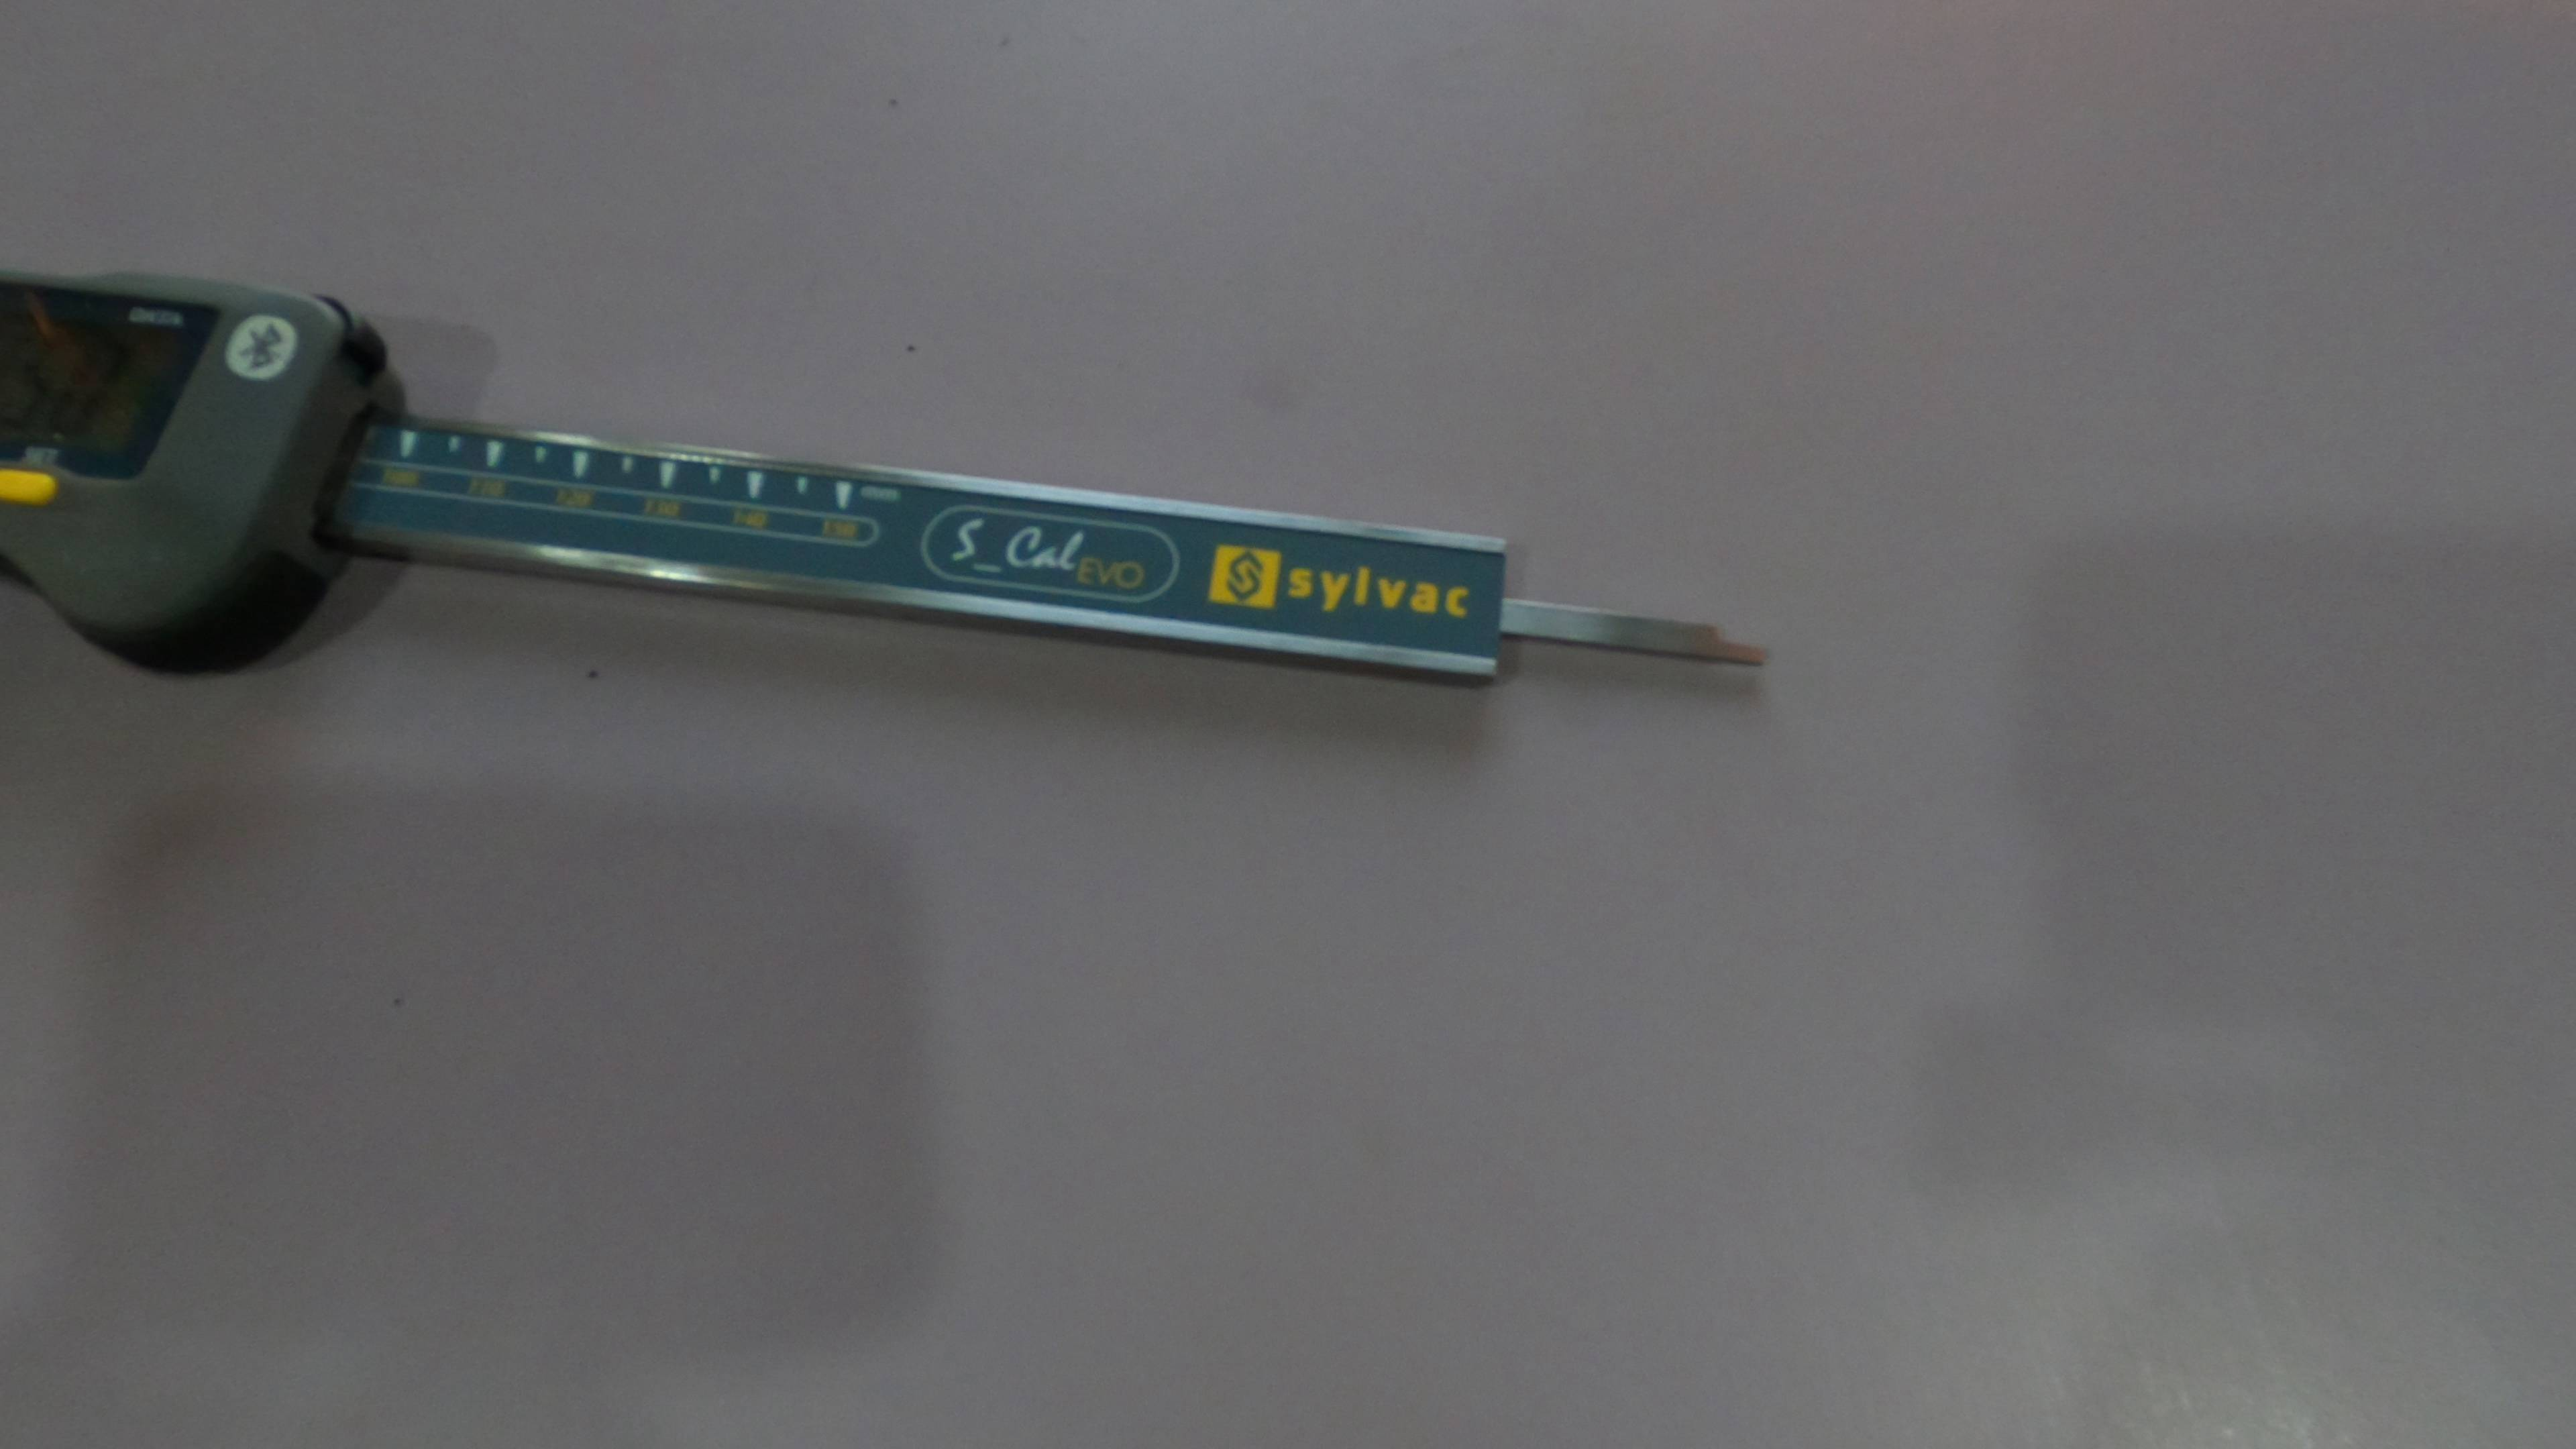vernier_caliper: (11, 234, 1783, 694)
